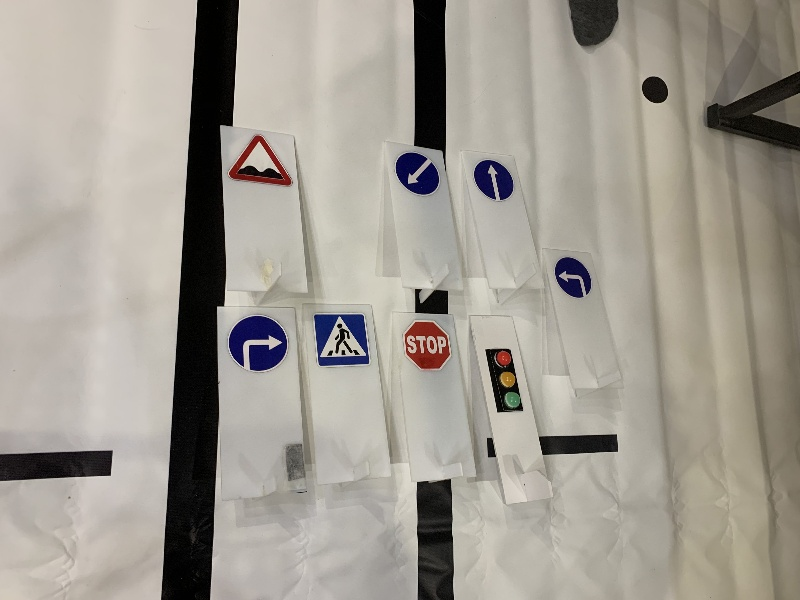Left: (553, 254, 593, 299)
Nerov: (228, 131, 292, 189)
Right: (226, 313, 288, 372)
Stop: (404, 320, 450, 372)
forw: (474, 159, 513, 201)
pesh: (311, 310, 374, 368)
prep: (397, 153, 439, 196)
